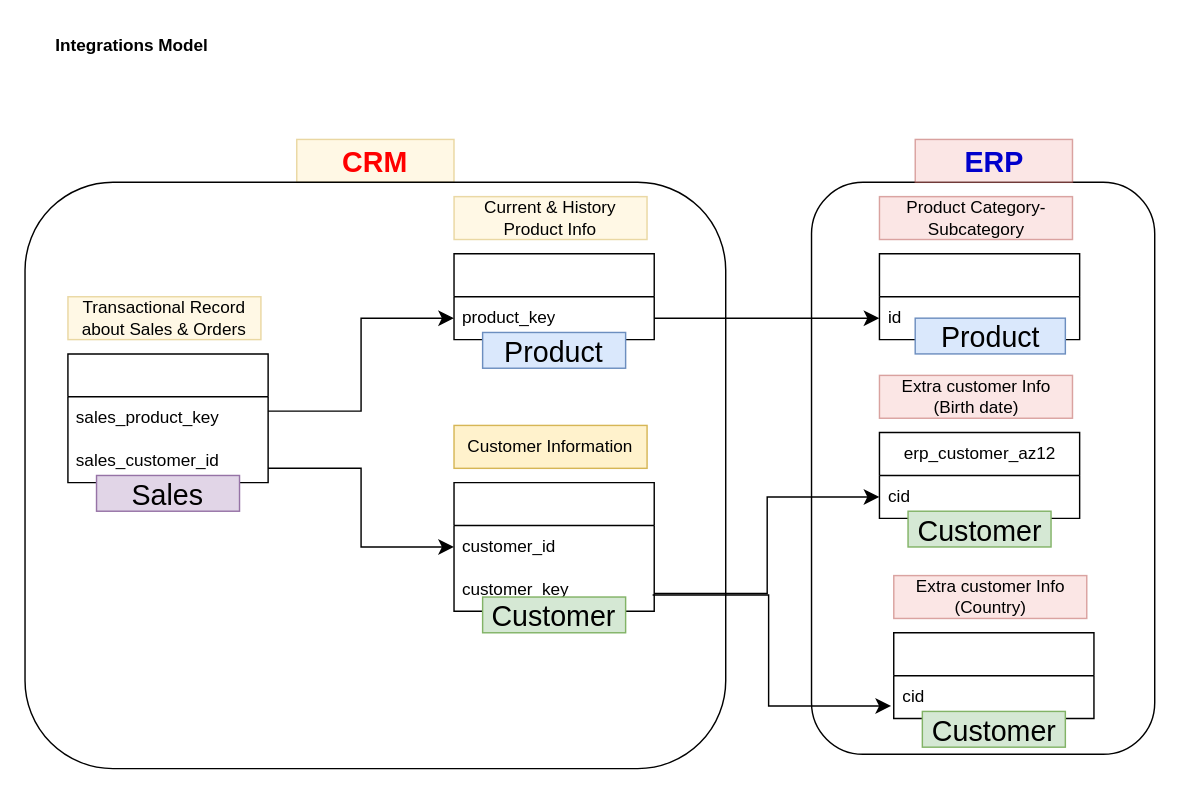
Image size: 1180x794. Some labels were removed from this diagram. The box of each missing label's shape, as (x1, y1, x2, y2) in pixels:
crm_customer_info: (453, 481, 654, 611)
crm_product_info: (453, 252, 654, 340)
crm_sales_details: (66, 352, 268, 483)
erp_location_a101: (892, 631, 1094, 719)
erp_px_cat_g1v2: (878, 252, 1080, 340)
